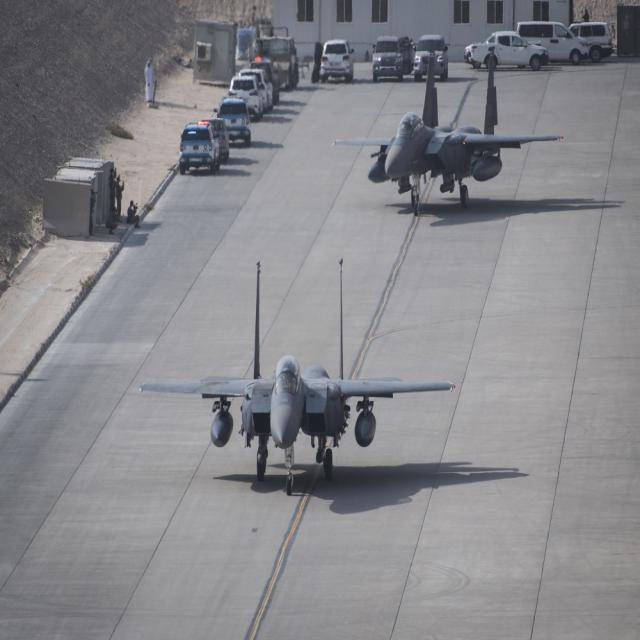MIL_Plane: (138, 256, 456, 496), (332, 45, 564, 217)
